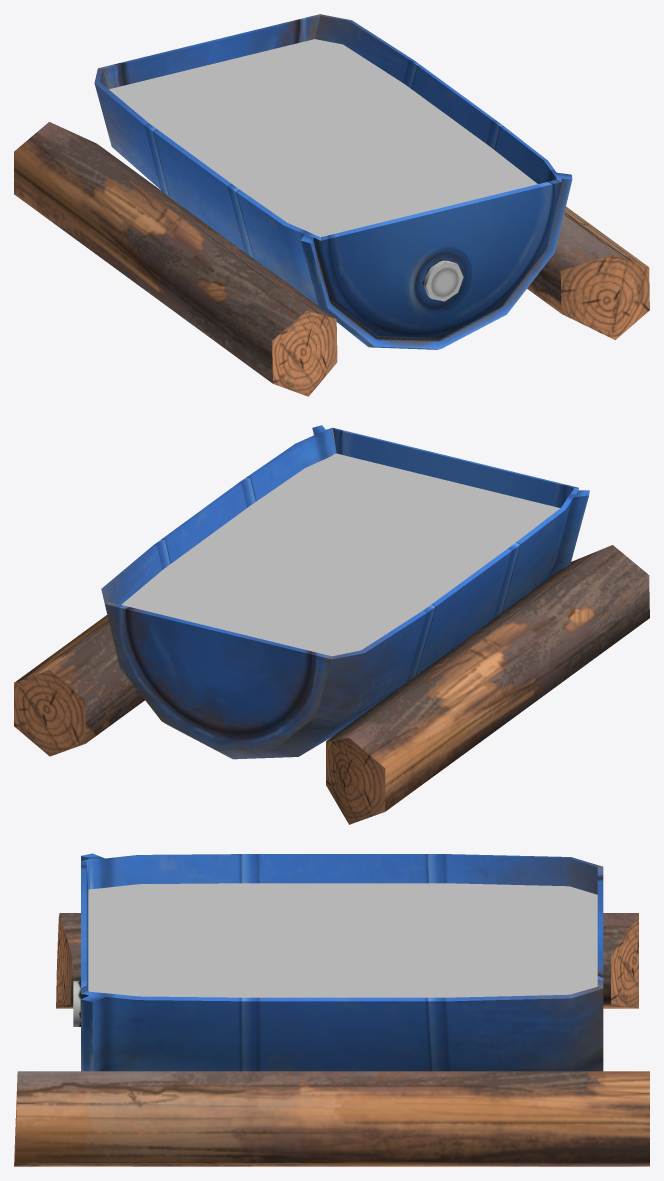
Rendered from raisedBed_barrel03.fbx.
3 views of the same model, one above another, from view 1: azimuth 30°, elevation 25°; view 2: azimuth 150°, elevation 25°; view 3: azimuth 270°, elevation 25° (orthographic). The views are drawn at different scales.
Parts seen in each view (by area): view 1: raisedBed_barrel03; view 2: raisedBed_barrel03; view 3: raisedBed_barrel03.
Boxes of the visible parts, x1=… form: raisedBed_barrel03: x1=14, y1=14, x2=649, y2=396; raisedBed_barrel03: x1=14, y1=425, x2=649, y2=824; raisedBed_barrel03: x1=14, y1=853, x2=649, y2=1166.
Size of the model in its own units: 82.18 by 31.43 by 112.
